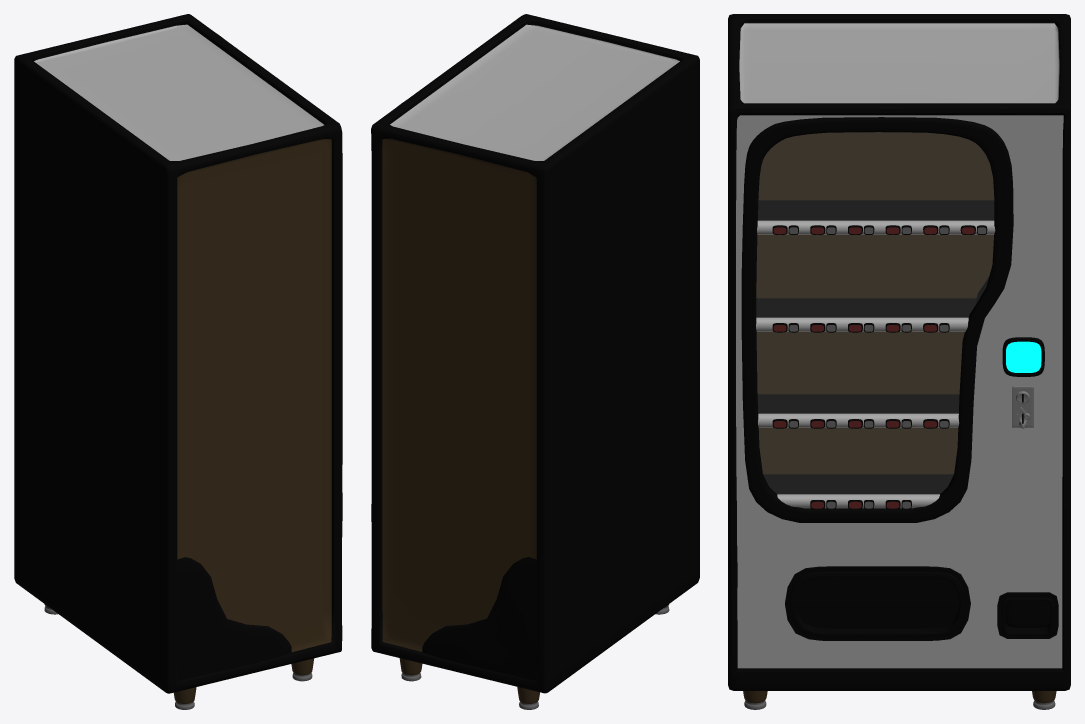
Rendered from VendingMachine.fbx.
3 views of the same model, side by side, from view 1: azimuth 30°, elevation 25°; view 2: azimuth 150°, elevation 25°; view 3: azimuth 270°, elevation 25° (orthographic). The views are drawn at different scales.
Visible parts, largest first — view 1: VendingMachine; view 2: VendingMachine; view 3: VendingMachine.
Part boxes in pixels (<box>): VendingMachine: <box>14,14,342,709</box>; VendingMachine: <box>371,14,699,709</box>; VendingMachine: <box>728,14,1070,709</box>.
Size of the model in its own units: 3.13 by 9 by 4.56.
